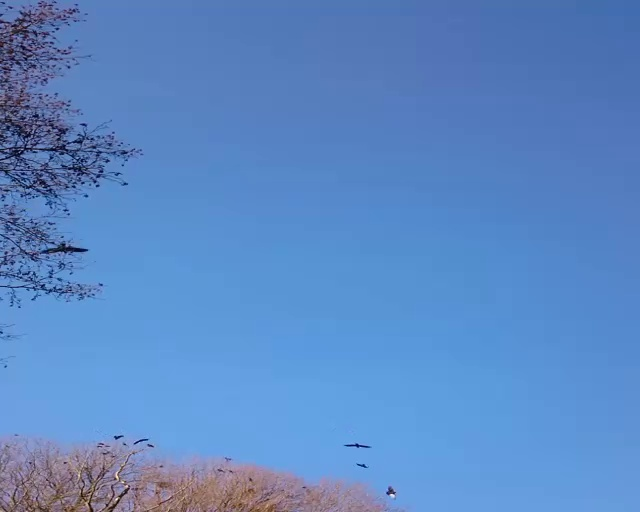BIRD: (343, 442, 372, 449)
